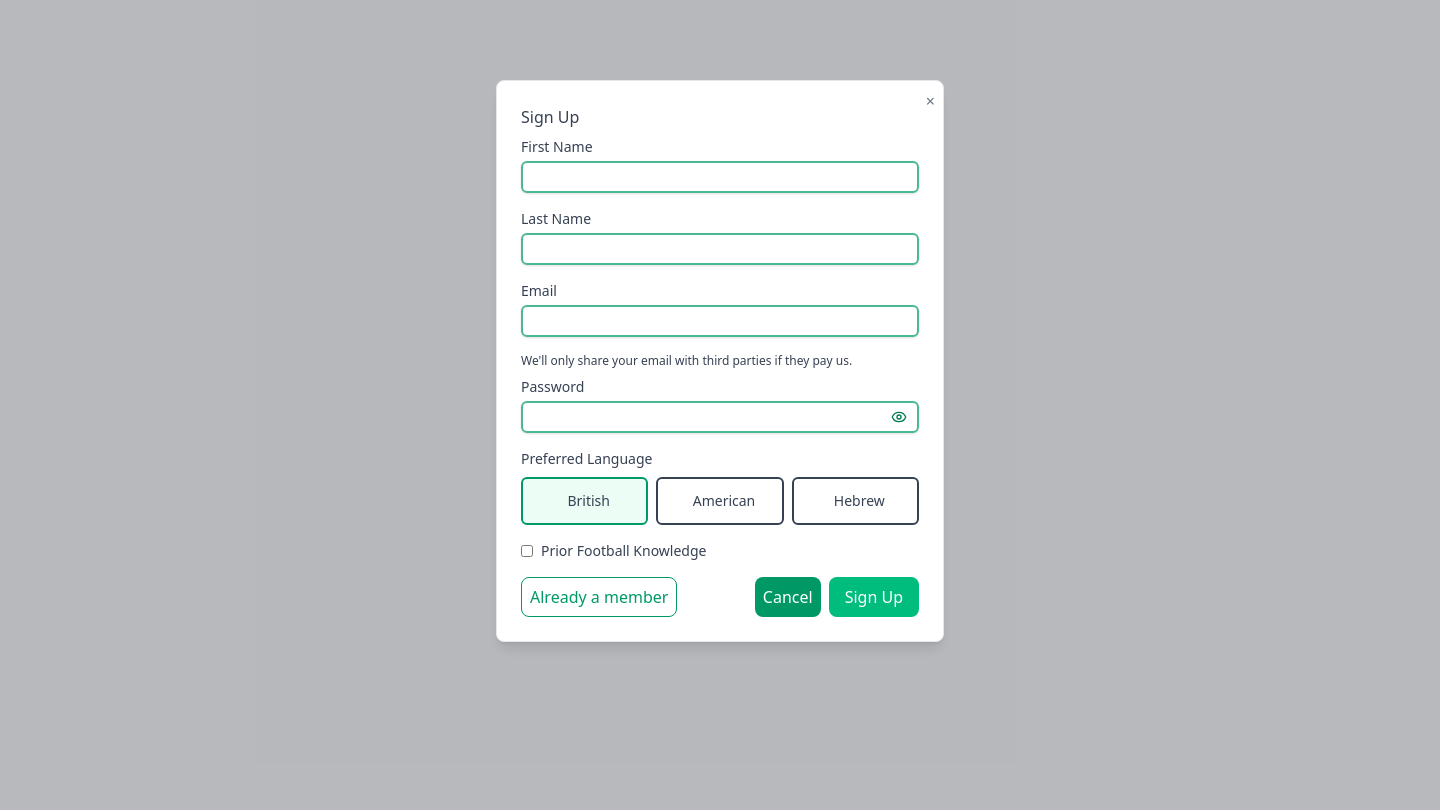
Test: SignUpForm › validation › requires a first name
This screenshot has width=1440, height=810.
Click the button "Sign Up". click: (874, 597)
box: [829,577,919,617]
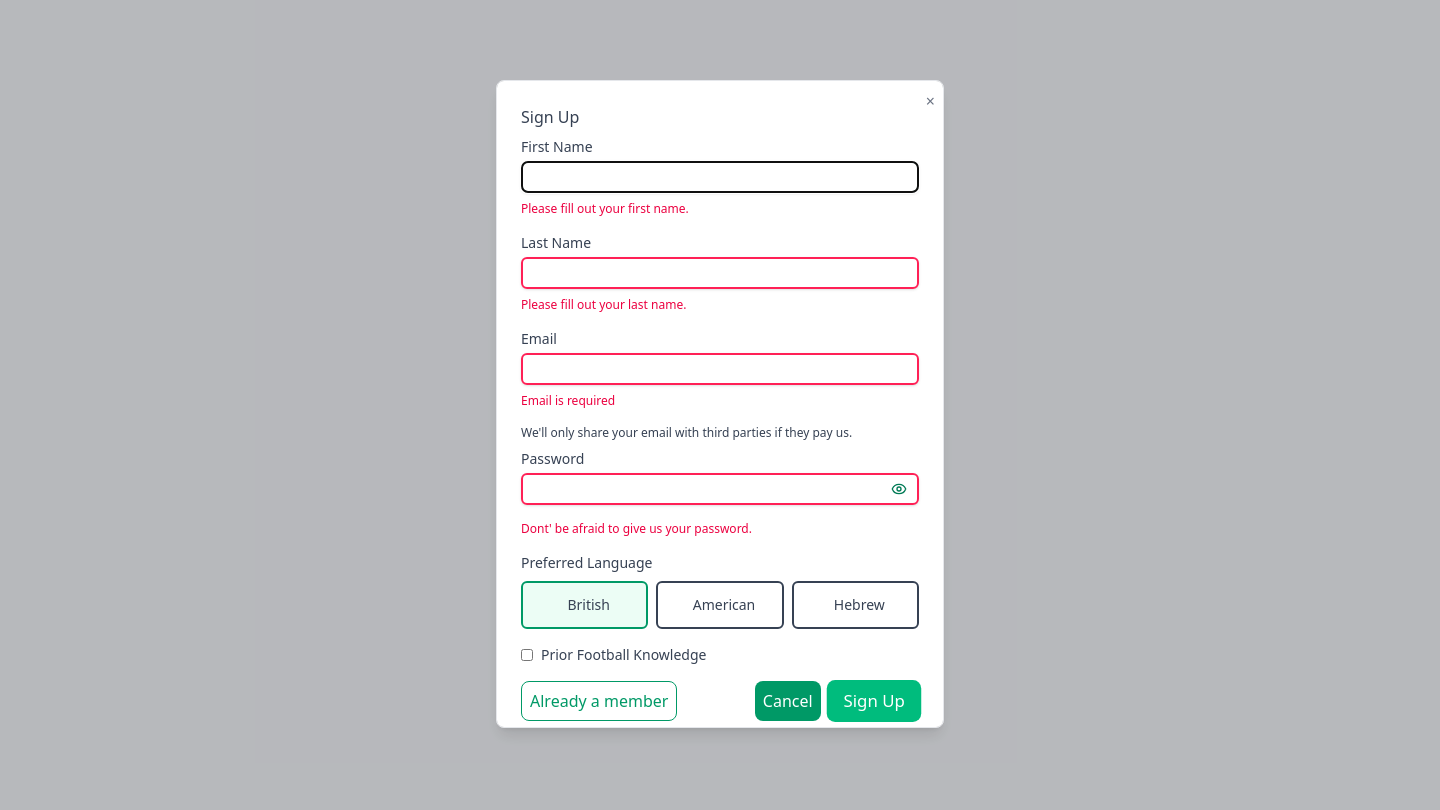
Result: the text "Please fill out your first name." is shown at [521,200,689,217]
